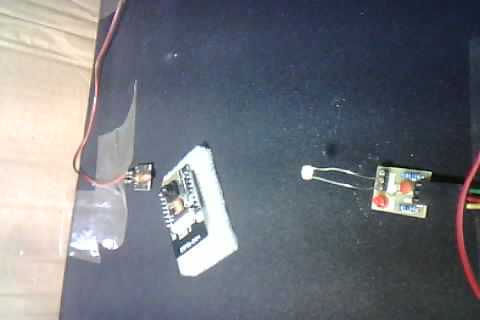esp32: (157, 165, 225, 271)
